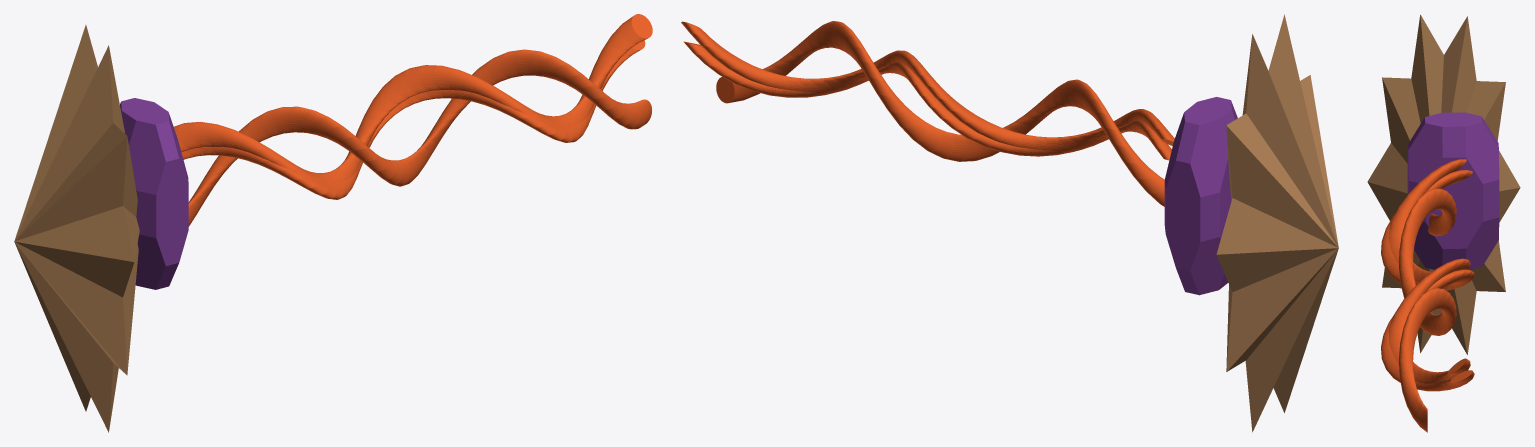
File: tinker.obj
3 views of the same model, side by side, from view 1: azimuth 30°, elevation 25°; view 2: azimuth 150°, elevation 25°; view 3: azimuth 270°, elevation 25° (orthographic). The views are drawn at different scales.
Parts seen in each view (by area): view 1: group_0_11107152, group_0_14900002, group_0_8273816; view 2: group_0_11107152, group_0_14900002, group_0_8273816; view 3: group_0_11107152, group_0_14900002, group_0_8273816.
Part boxes in pixels (bbox=[...]): group_0_11107152: bbox=[14, 25, 139, 432]; group_0_14900002: bbox=[174, 14, 652, 226]; group_0_8273816: bbox=[120, 98, 188, 289]; group_0_11107152: bbox=[1216, 14, 1338, 432]; group_0_14900002: bbox=[681, 21, 1174, 206]; group_0_8273816: bbox=[1164, 97, 1237, 295]; group_0_11107152: bbox=[1367, 14, 1520, 354]; group_0_14900002: bbox=[1381, 159, 1474, 432]; group_0_8273816: bbox=[1407, 112, 1499, 269].
Size of the model in its own units: 121 by 70.43 by 28.78.
